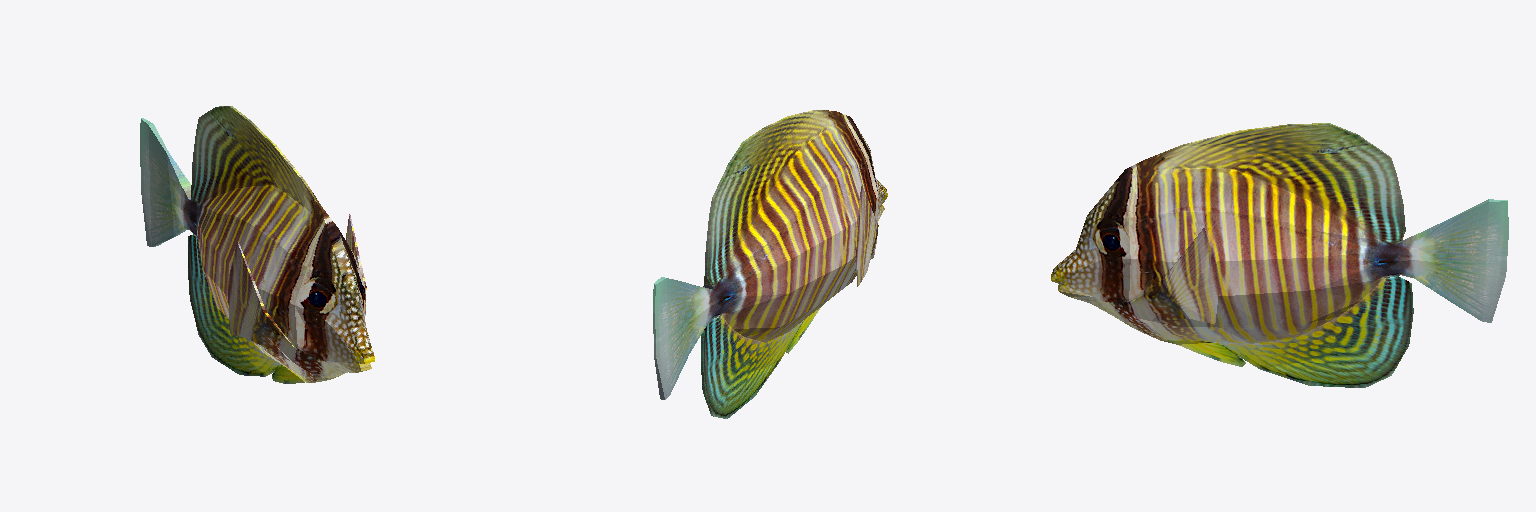
The picture shows the model from 3 angles: view 1: azimuth 30°, elevation 25°; view 2: azimuth 150°, elevation 25°; view 3: azimuth 270°, elevation 25°; orthographic projection.
Parts seen in each view (by area): view 1: TropicalFish01_TropicalFish01; view 2: TropicalFish01_TropicalFish01; view 3: TropicalFish01_TropicalFish01.
Boxes of the visible parts, x1,y1,x2,y2 form: TropicalFish01_TropicalFish01: [140, 106, 374, 383]; TropicalFish01_TropicalFish01: [653, 110, 887, 418]; TropicalFish01_TropicalFish01: [1051, 123, 1508, 387].
Size of the model in its own units: 1.14 by 2.45 by 3.86.
Materials: 1 (1 with a texture image).